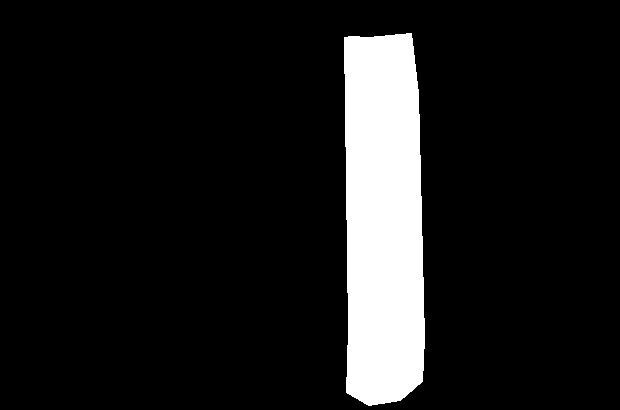type3s: (338, 29, 427, 408)
